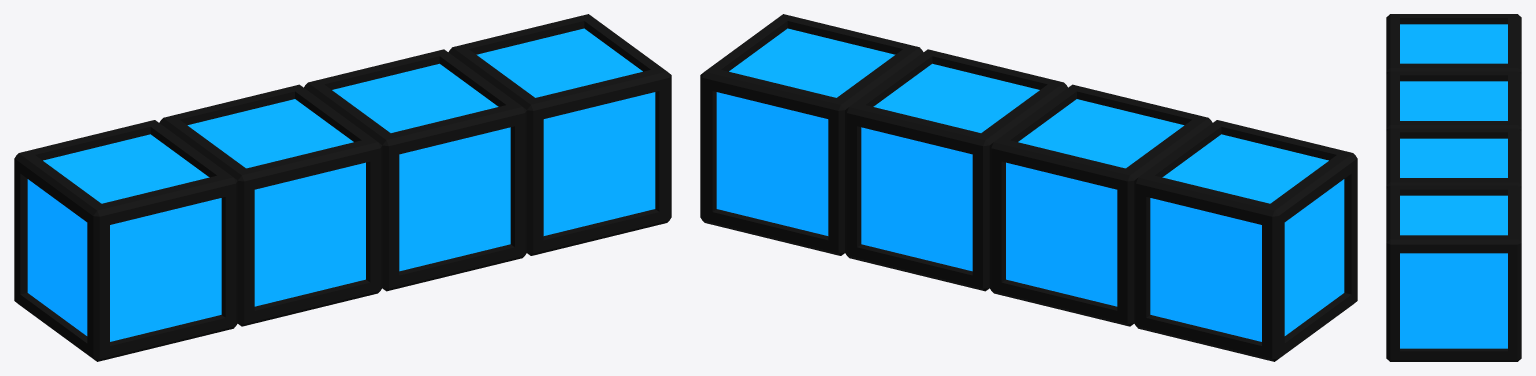
File: BBlockSolid.fbx
3 views of the same model, side by side, from view 1: azimuth 30°, elevation 25°; view 2: azimuth 150°, elevation 25°; view 3: azimuth 270°, elevation 25° (orthographic). The views are drawn at different scales.
Parts seen in each view (by area): view 1: BBlock; view 2: BBlock; view 3: BBlock.
Part boxes in pixels (x1,y1,x2,y2): BBlock: (14,14,671,361); BBlock: (700,14,1357,361); BBlock: (1386,14,1521,361).
Bounding box in the file's own units: 800 × 200 × 200.
